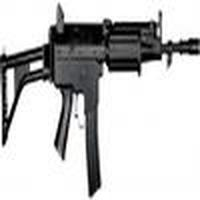gun: (2, 10, 197, 147)
